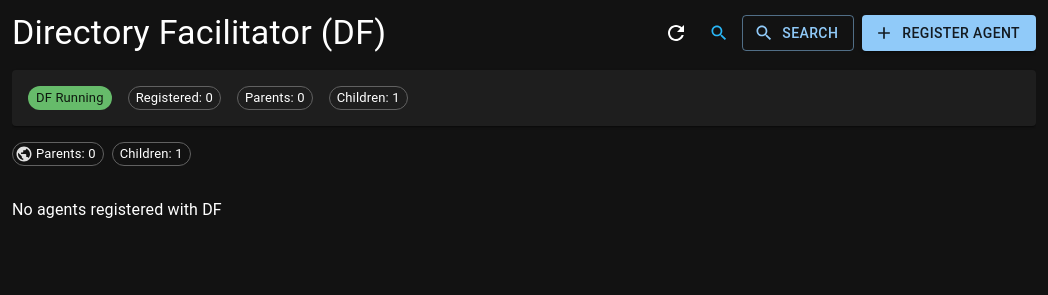
Test: DFPage › Given child DFs exist, When child tab clicked, Then shows child list and deregister button
Click the button "Children: 1" at {"x": 151, "y": 154}, box [112,142,191,166]
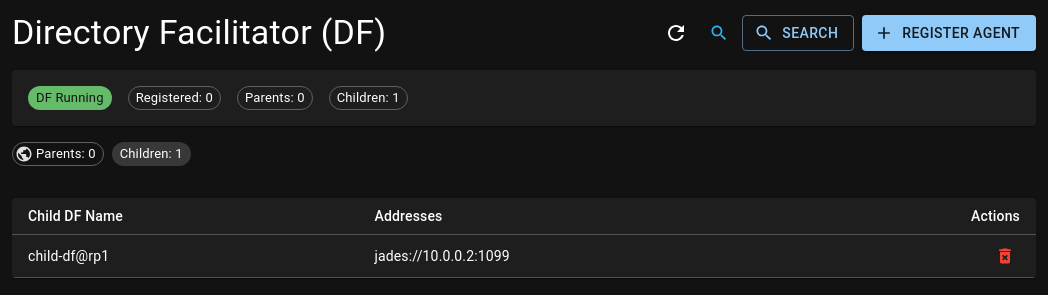
Expected: the text "child-df@rp1" is shown, [12,234,358,278]
Expected: the button named "Deregister Child" is shown, [990,241,1020,271]
